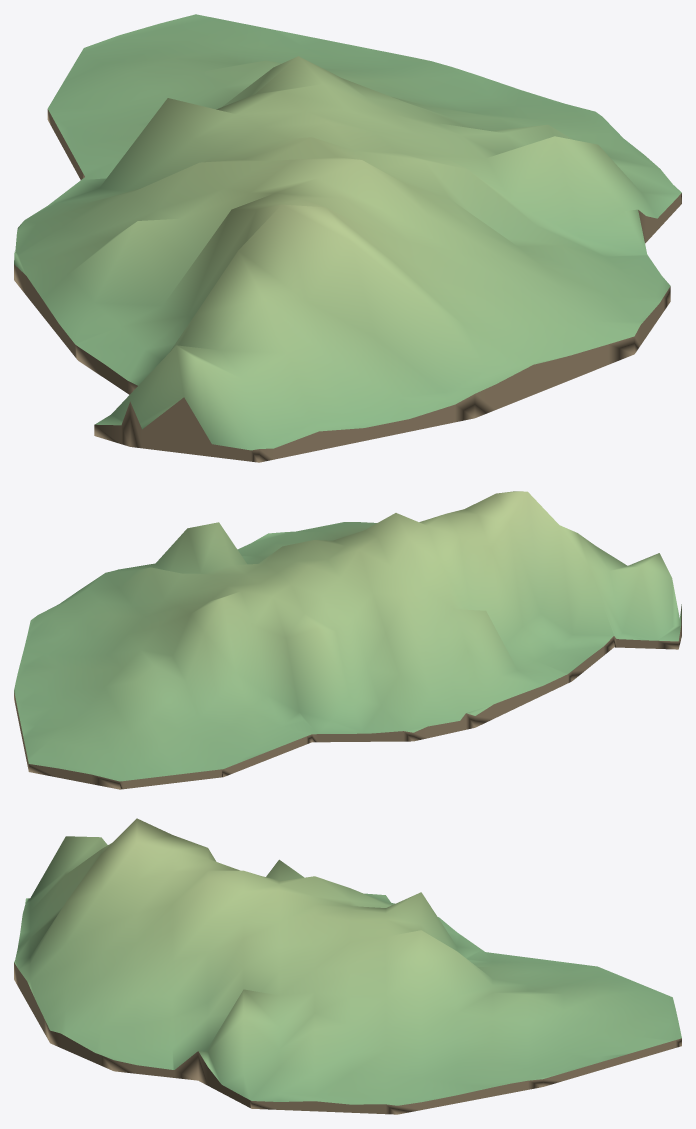
Rendered from MUS.glb.
3 renders of one model, top to bottom at view 1: azimuth 30°, elevation 25°; view 2: azimuth 150°, elevation 25°; view 3: azimuth 270°, elevation 25°, orthographic. The views are drawn at different scales.
Visible parts, largest first — view 1: MUS; view 2: MUS; view 3: MUS.
Part boxes in pixels (<box>): MUS: <box>14,14,681,462</box>; MUS: <box>14,491,681,789</box>; MUS: <box>14,818,681,1114</box>.
Bounding box in the file's own units: 1.4 × 0.338 × 1.64.
